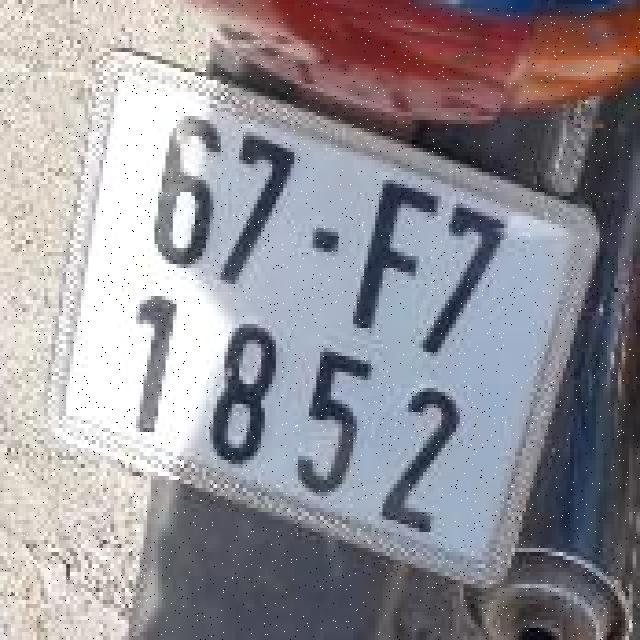1: (117, 278, 199, 445)
2: (370, 371, 482, 547)
5: (285, 331, 388, 502)
6: (144, 105, 236, 284)
7: (407, 191, 537, 375), (203, 118, 313, 304)
8: (201, 311, 298, 476)
F: (341, 164, 457, 349)
